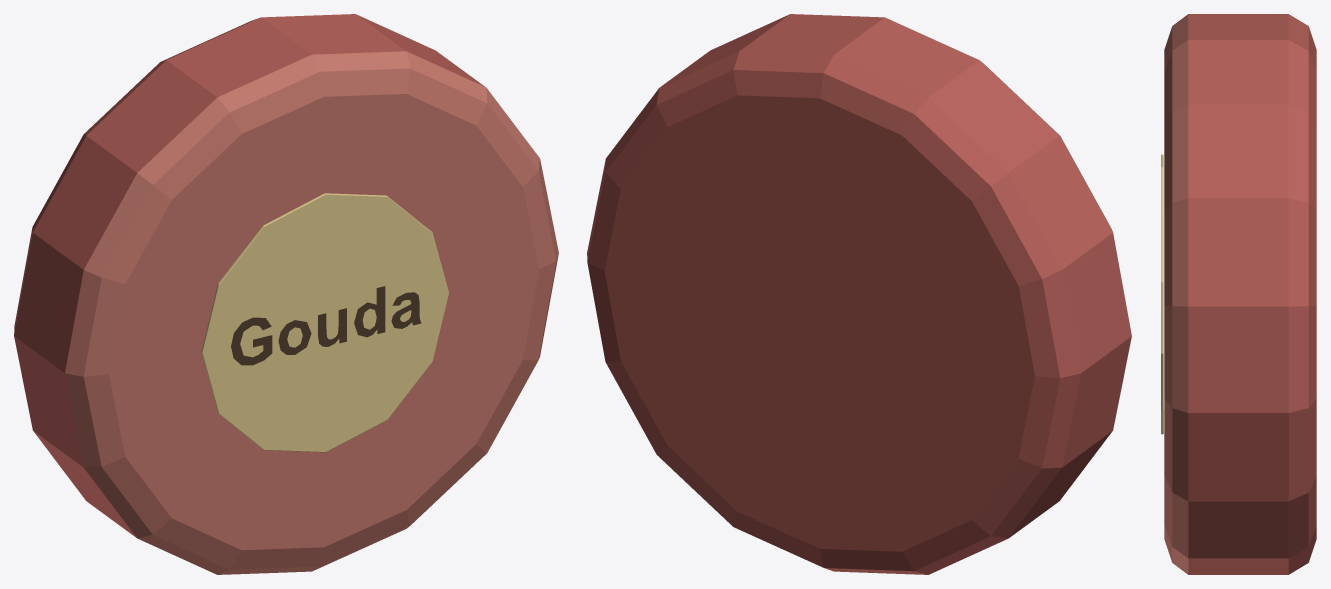
The model's file is gouda.glb.
The picture shows the model from 3 angles, left to right: view 1: azimuth 30°, elevation 25°; view 2: azimuth 150°, elevation 25°; view 3: azimuth 270°, elevation 25°; orthographic projection.
Visible parts, largest first — view 1: gouda; view 2: gouda; view 3: gouda.
Boxes of the visible parts, box(x1,y1,x2,y2) form: gouda: box(14, 14, 558, 574); gouda: box(587, 14, 1131, 574); gouda: box(1161, 14, 1316, 574).
Bounding box in the file's own units: 0.14 × 0.14 × 0.039.
